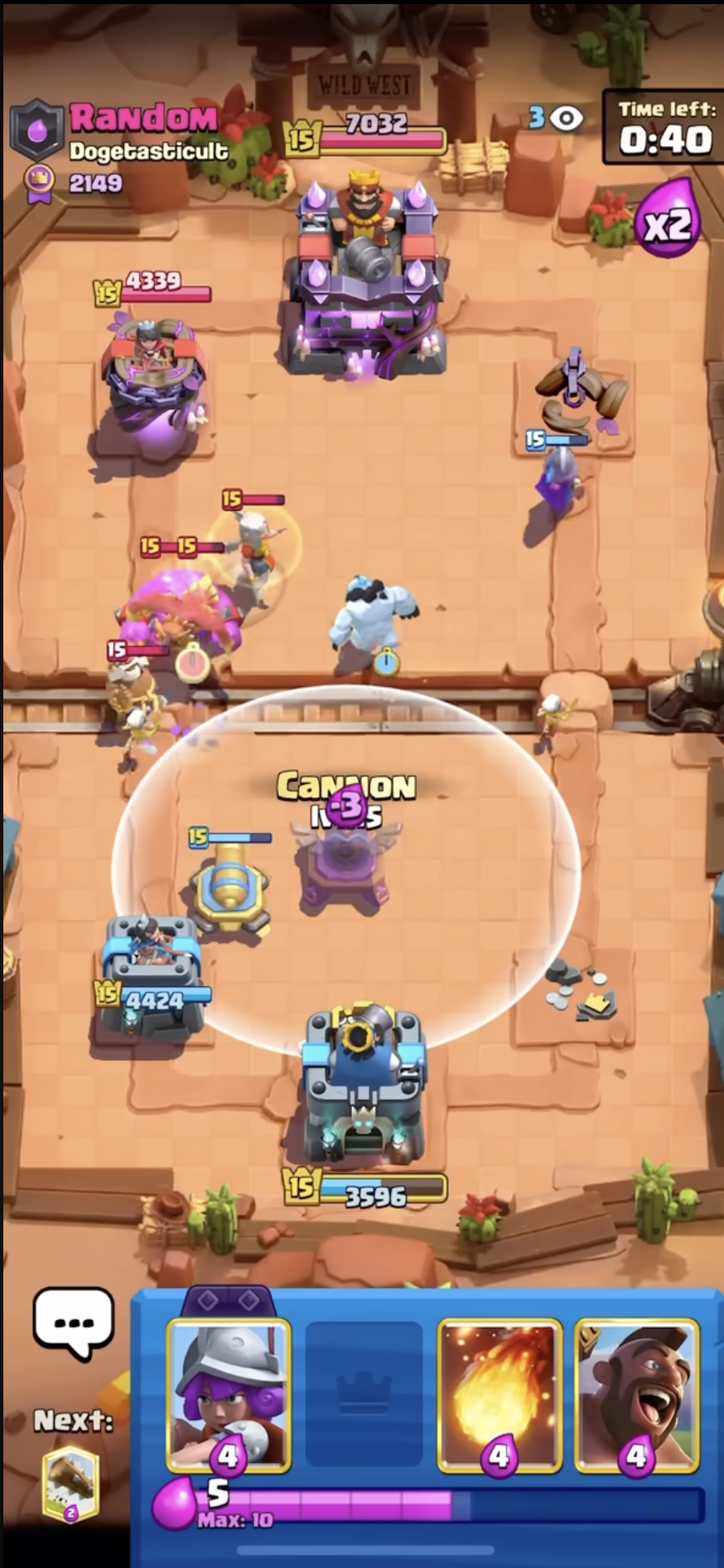cannon: (174, 807, 280, 956)
evo-musketeer: (505, 412, 597, 539)
ice-golem: (331, 561, 424, 691)
